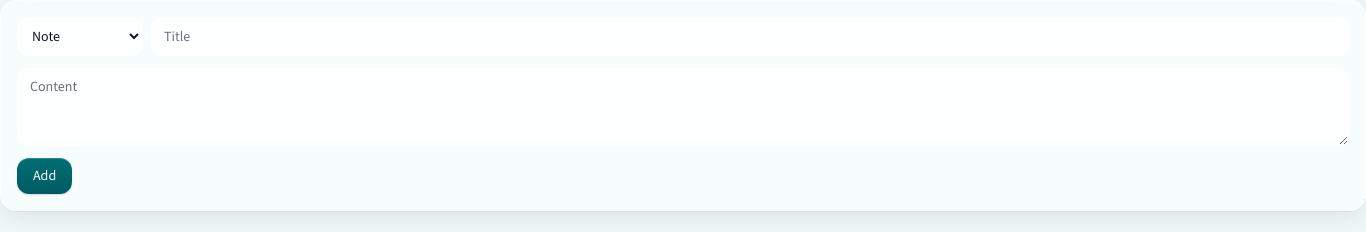
Test: ItemCreateForm › shows an error message when creation fails
Step 1. Type "x" into the field with placeholder "Title" → (750, 36), box x1=151 y1=17 x2=1349 y2=56
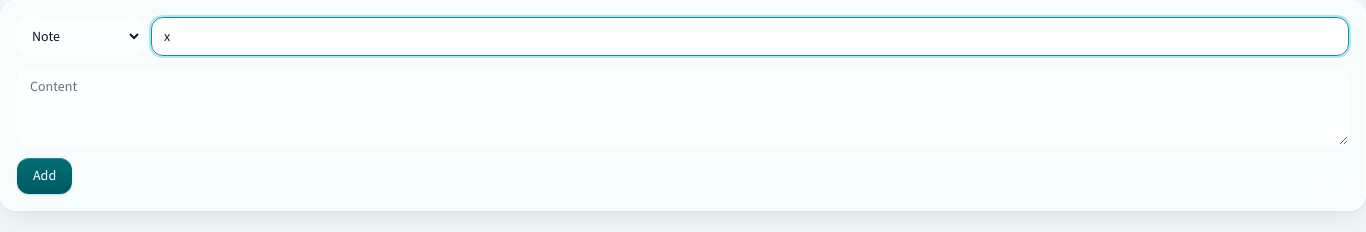
Step 2. Click the button "Add" → (45, 176), box x1=17 y1=158 x2=72 y2=194
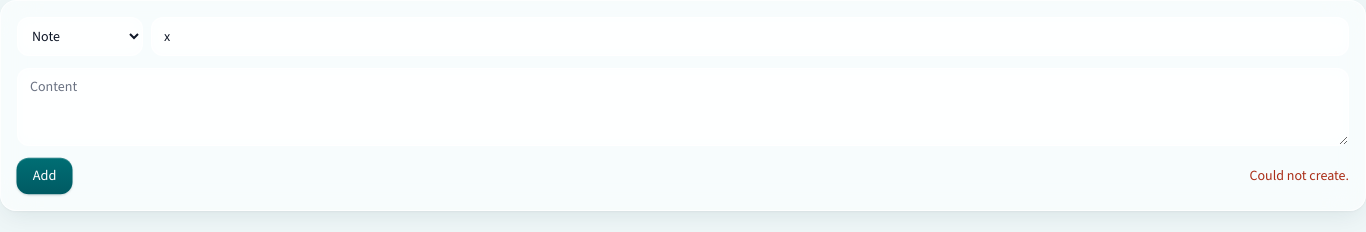
Check: the text "Could not create." is shown, box x1=1249 y1=166 x2=1349 y2=186
